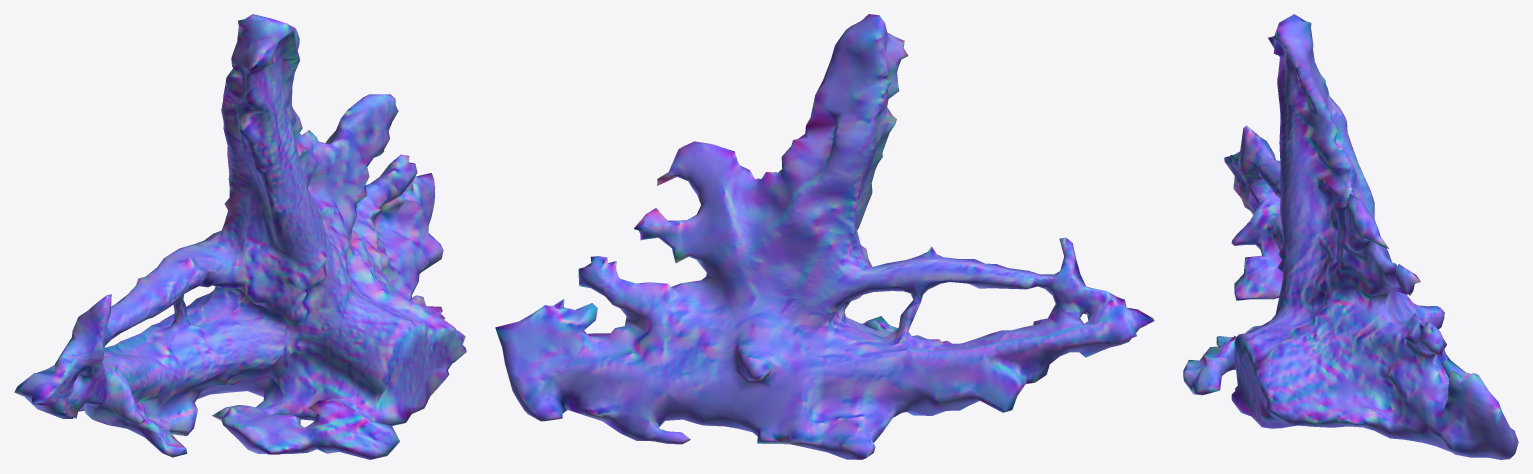
File: TerrainDeco002.fbx
3 renders of one model, left to right at view 1: azimuth 30°, elevation 25°; view 2: azimuth 150°, elevation 25°; view 3: azimuth 270°, elevation 25°, orthographic. The views are drawn at different scales.
Visible parts, largest first — view 1: TerrainDeco02_LOD0; view 2: TerrainDeco02_LOD0; view 3: TerrainDeco02_LOD0.
Boxes of the visible parts, x1,y1,x2,y2 form: TerrainDeco02_LOD0: (14, 14, 466, 459); TerrainDeco02_LOD0: (495, 14, 1154, 459); TerrainDeco02_LOD0: (1183, 14, 1518, 459).
Size of the model in its own units: 507 by 369 by 312.
